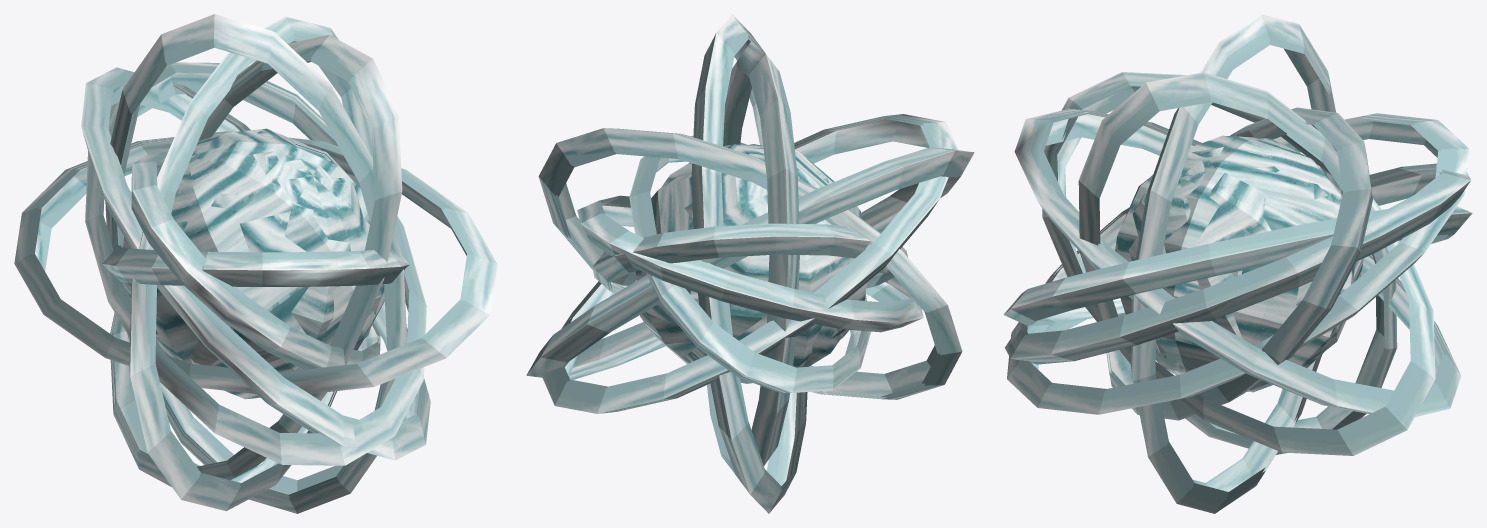
The model's file is ManaBomb.FBX.
3 views of the same model, side by side, from view 1: azimuth 30°, elevation 25°; view 2: azimuth 150°, elevation 25°; view 3: azimuth 270°, elevation 25° (orthographic). The views are drawn at different scales.
Visible parts, largest first — view 1: WebBall_Mesh; view 2: WebBall_Mesh; view 3: WebBall_Mesh.
Part boxes in pixels (x1,y1,x2,y2): WebBall_Mesh: [14, 14, 497, 513]; WebBall_Mesh: [526, 14, 974, 513]; WebBall_Mesh: [1003, 14, 1472, 513].
Size of the model in its own units: 376 by 519 by 467.
